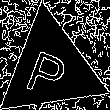P_N: (26, 38, 75, 98)
